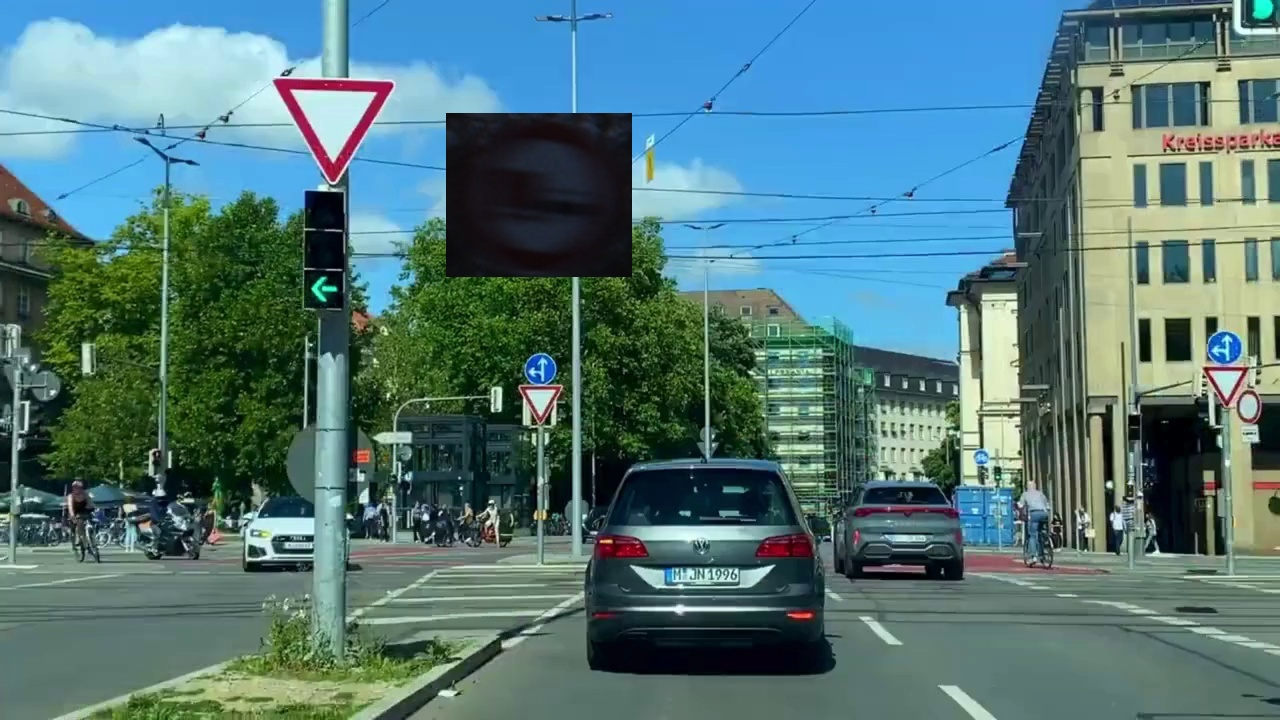No pass >3.5t: (446, 113, 632, 277)
